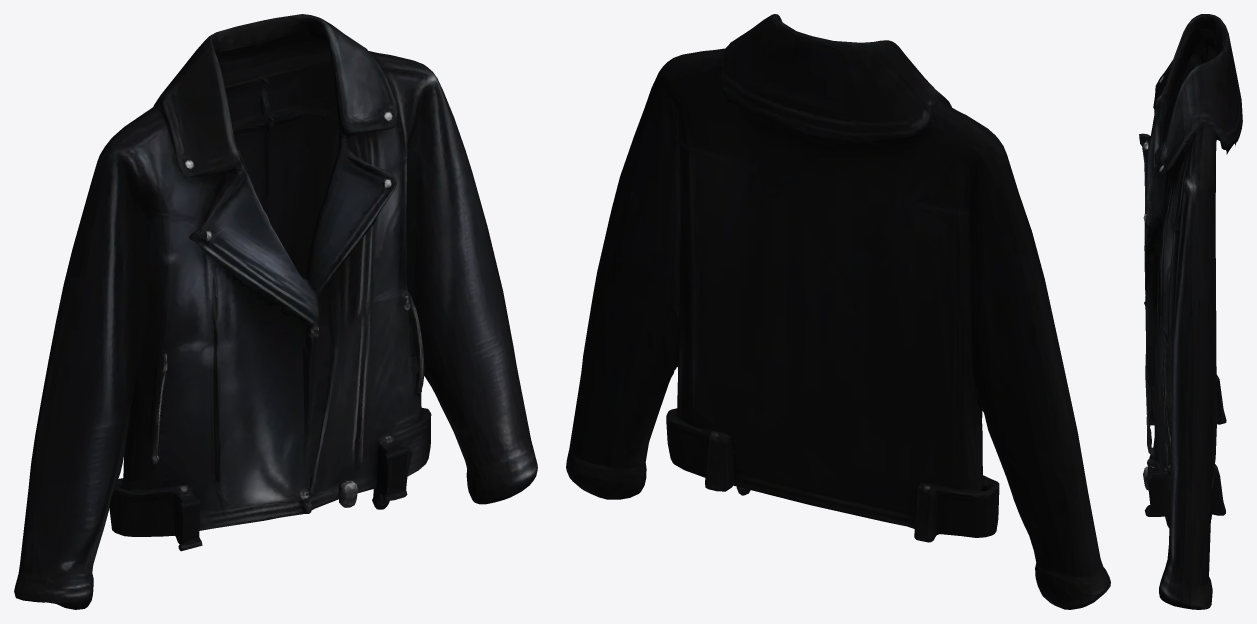
Rendered from jacket_leather_black_2.glb.
The picture shows the model from 3 angles, left to right: view 1: azimuth 30°, elevation 25°; view 2: azimuth 150°, elevation 25°; view 3: azimuth 270°, elevation 25°; orthographic projection. The views are drawn at different scales.
Parts seen in each view (by area): view 1: geometry_0; view 2: geometry_0; view 3: geometry_0.
Part boxes in pixels (x1=…): geometry_0: x1=14, y1=14, x2=537, y2=609; geometry_0: x1=566, y1=14, x2=1110, y2=609; geometry_0: x1=1139, y1=14, x2=1242, y2=609.
Size of the model in its own units: 0.9981 by 0.9442 by 0.1881.
Materials: 1 (1 with a texture image).
